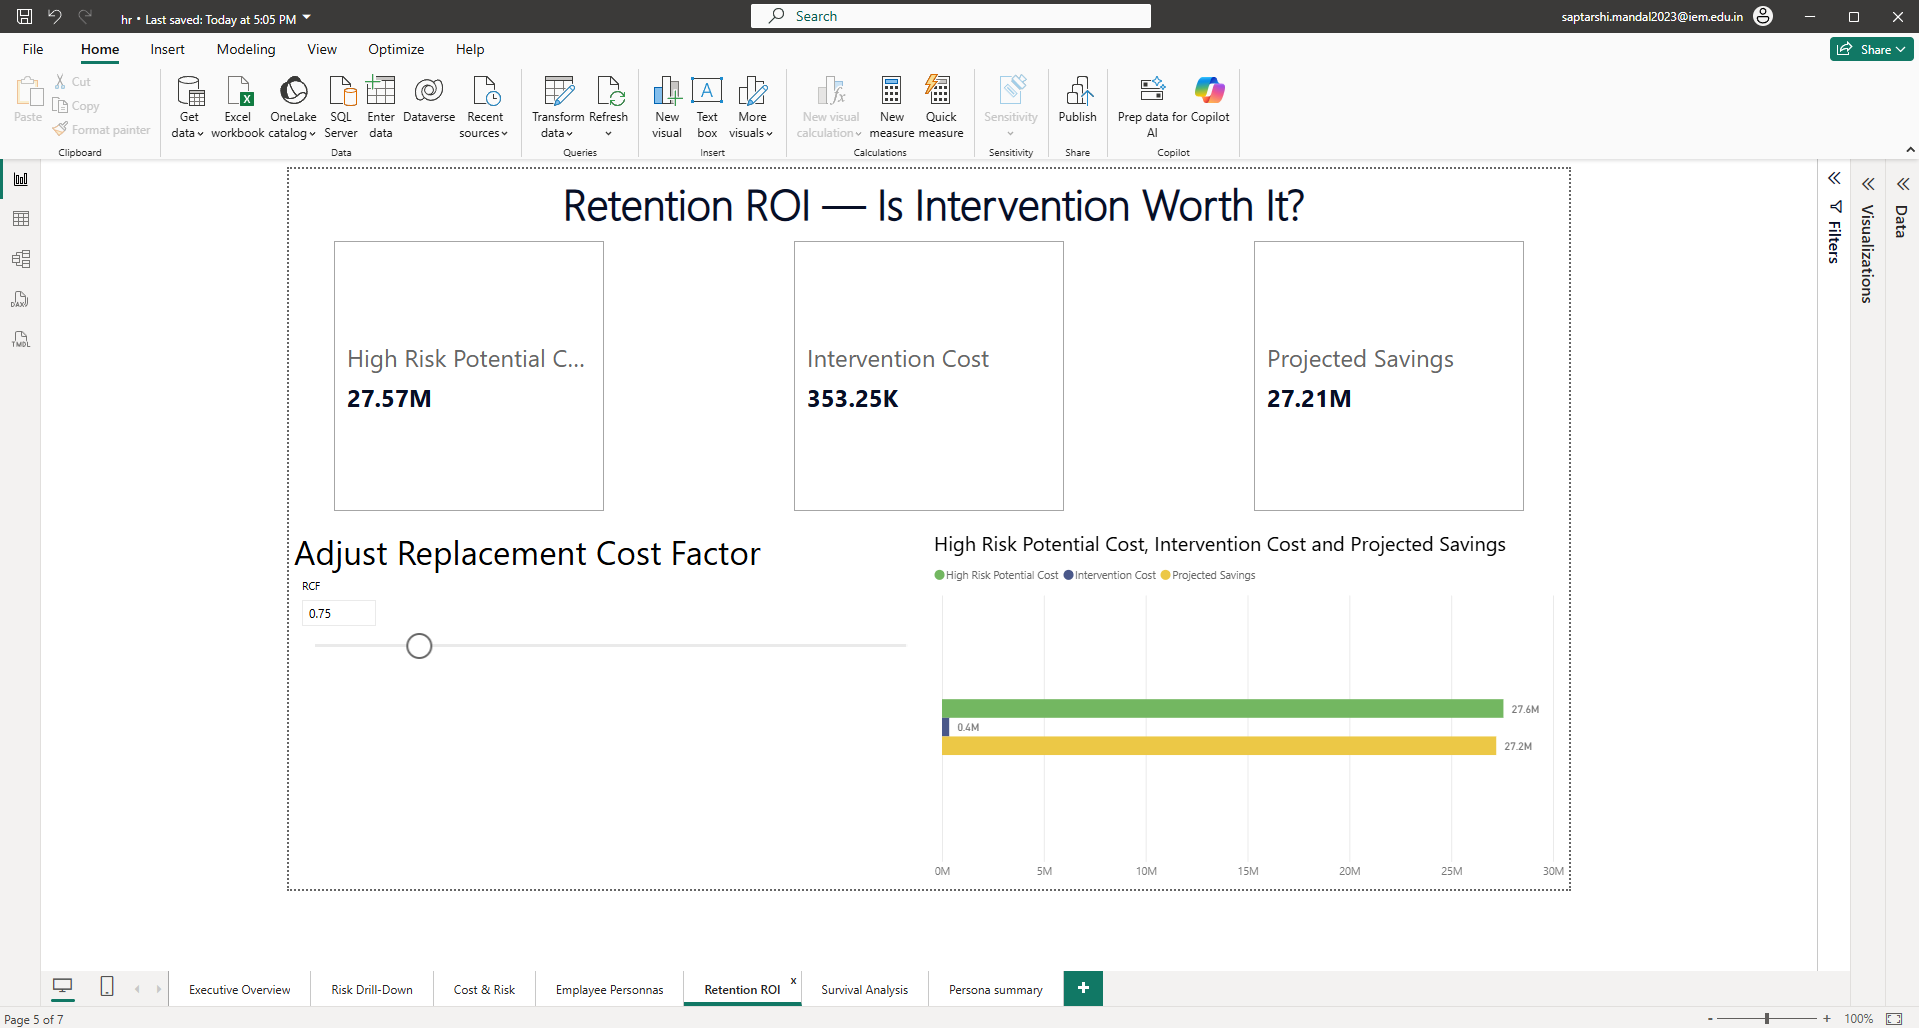

The dashboard page shown, as its layout file describes it:
{"tool":"powerbi","page":{"name":"Retention ROI","canvas":[1280,720],"ordinal":3},"visuals":[{"type":"cardVisual","fields":{"Data":["HR_Attrition_PowerBI_Ready.High Risk Potential Cost"]},"box":[40,66.7,280,280],"z":0},{"type":"cardVisual","fields":{"Data":["HR_AtRisk_Personas.Projected Savings"]},"box":[960,66.7,280,280],"z":1000},{"type":"cardVisual","fields":{"Data":["HR_AtRisk_Personas.Intervention Cost"]},"box":[500,66.7,280,280],"z":2000},{"type":"slicer","title":"Adjust Replacement Cost Factor","fields":{"Values":["RCF.RCF"]},"box":[0,360,640,360],"z":3000},{"type":"clusteredBarChart","fields":{"Y":["HR_Attrition_PowerBI_Ready.High Risk Potential Cost","HR_AtRisk_Personas.Intervention Cost","HR_AtRisk_Personas.Projected Savings"]},"box":[640,360,640,360],"z":4000},{"type":"textbox","box":[10,0,1270,66.7],"z":5000}]}

Visuals, with their boxes on the page's 1280x720 design canvas (x1, y1, x2, y2). These are canvas units, not pixel positions in the 1919x1028 screenshot, which may show the page scaled, cropped or inside an application window:
cardVisual - HR_Attrition_PowerBI_Ready.High Risk Potential Cost: 40 67 320 347
cardVisual - HR_AtRisk_Personas.Projected Savings: 960 67 1240 347
cardVisual - HR_AtRisk_Personas.Intervention Cost: 500 67 780 347
"Adjust Replacement Cost Factor" slicer: 0 360 640 720
clusteredBarChart - HR_Attrition_PowerBI_Ready.High Risk Potential Cost x HR_AtRisk_Personas.Intervention Cost: 640 360 1280 720
textbox: 10 0 1280 67
